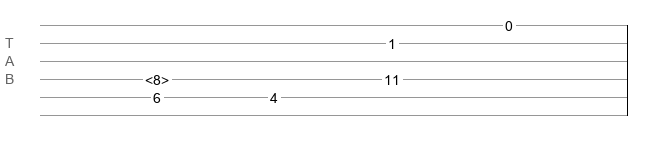0: (505, 18, 513, 28)
1: (388, 36, 396, 46)
11: (384, 72, 400, 82)
4: (270, 90, 278, 100)
6: (153, 90, 161, 100)
harmonic: (145, 72, 169, 82)
